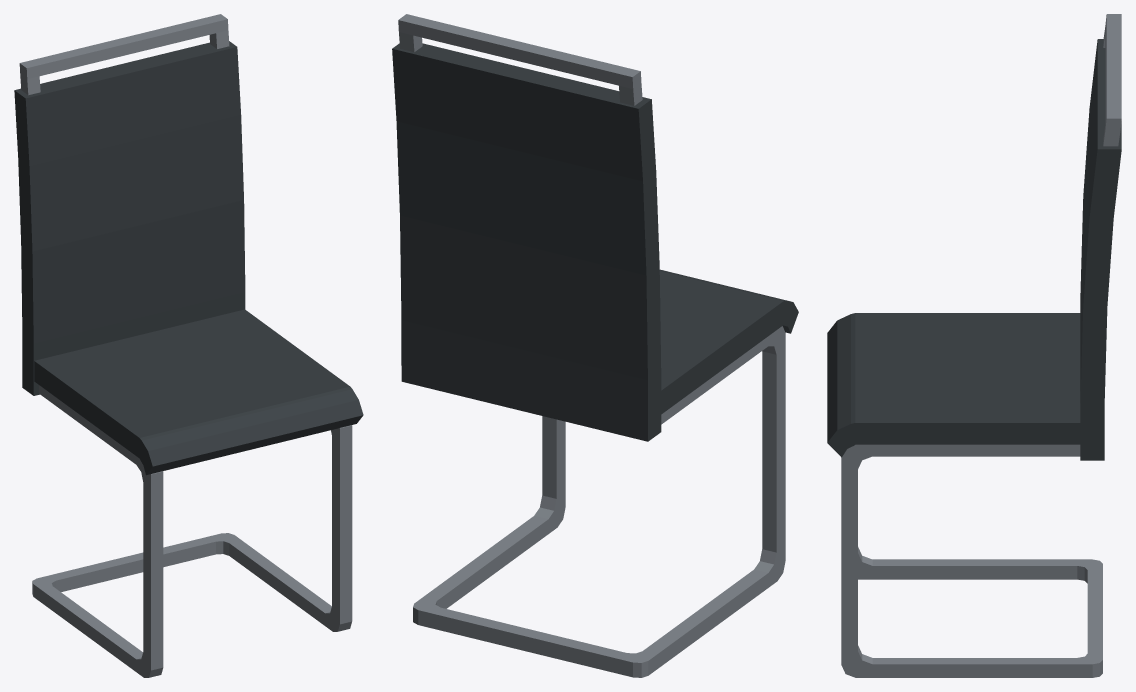
Rendered from Chair.fbx.
3 renders of one model, left to right at view 1: azimuth 30°, elevation 25°; view 2: azimuth 150°, elevation 25°; view 3: azimuth 270°, elevation 25°, orthographic. The views are drawn at different scales.
Parts seen in each view (by area): view 1: Chair_02; view 2: Chair_02; view 3: Chair_02.
Boxes of the visible parts, bbox=[...] form: Chair_02: bbox=[14, 14, 363, 677]; Chair_02: bbox=[392, 14, 798, 677]; Chair_02: bbox=[827, 14, 1121, 677].
Bounding box in the file's own units: 43.13 × 102 × 48.71.
